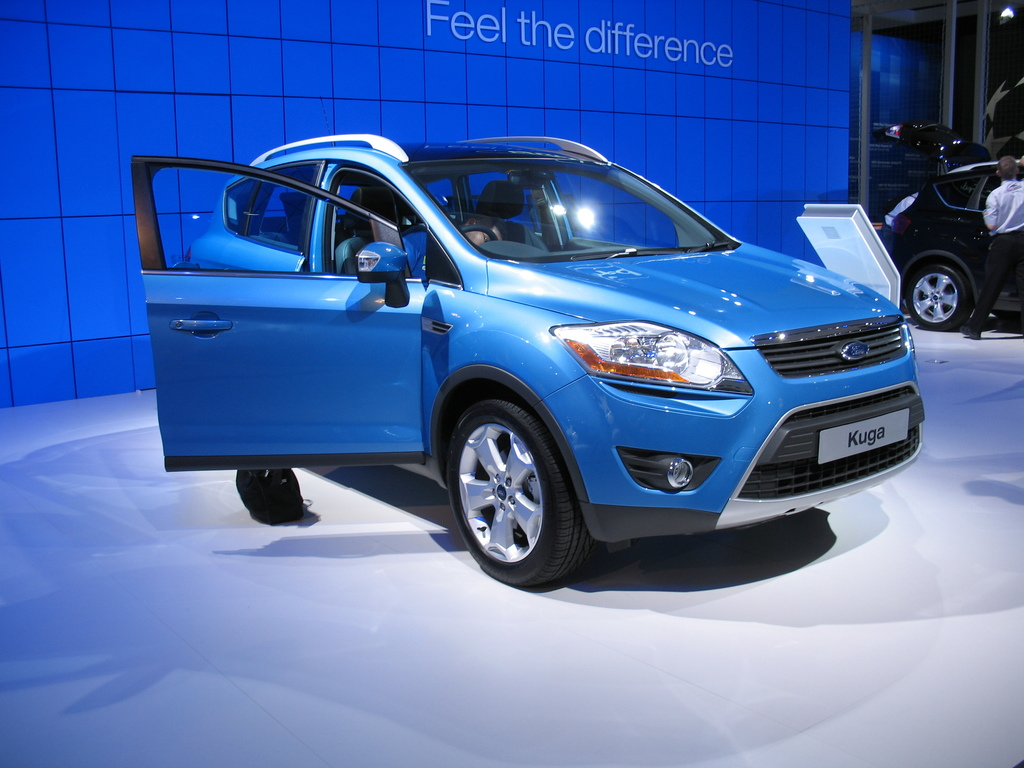Car: (129, 132, 926, 587), (880, 159, 1023, 331)
